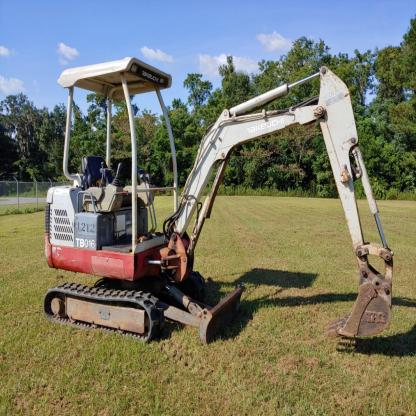excavator: (37, 43, 395, 350)
